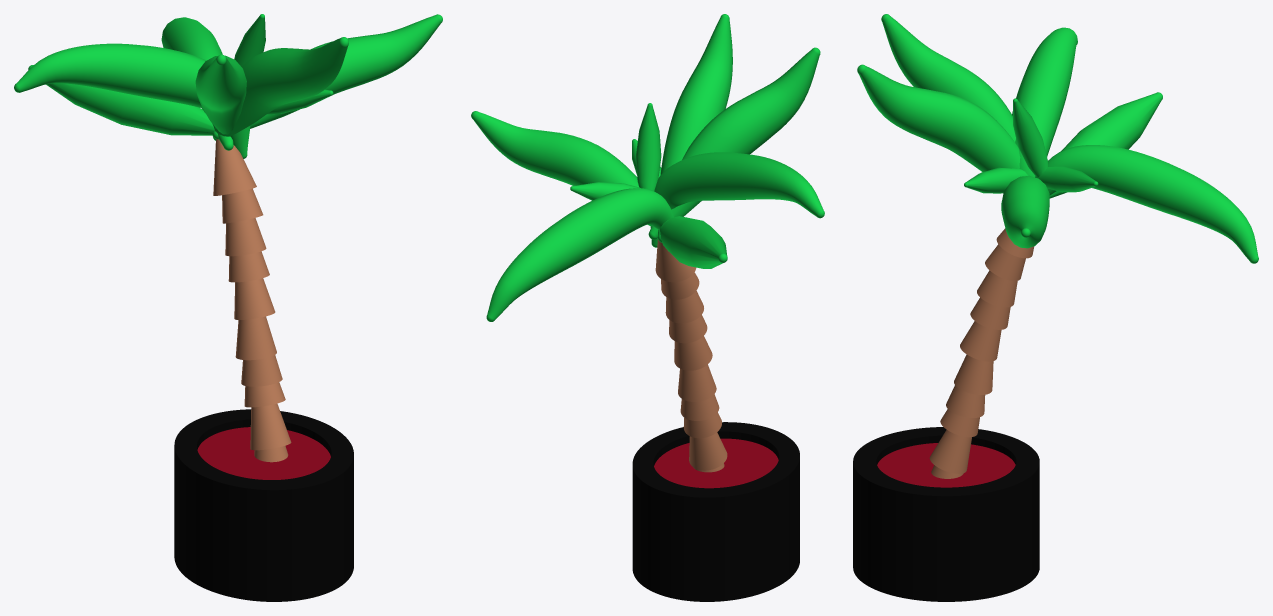
Rendered from palm.fbx.
3 renders of one model, left to right at view 1: azimuth 30°, elevation 25°; view 2: azimuth 150°, elevation 25°; view 3: azimuth 270°, elevation 25°, orthographic. The views are drawn at different scales.
Visible parts, largest first — view 1: root (×18); view 2: root (×19); view 3: root (×19).
Part boxes in pixels (<box>): root (×18): <box>14,14,442,601</box>; root (×19): <box>471,14,824,601</box>; root (×19): <box>853,14,1258,601</box>.
Bounding box in the file's own units: 0.6799 × 0.8841 × 0.6273.
7 materials, 2 textured.
